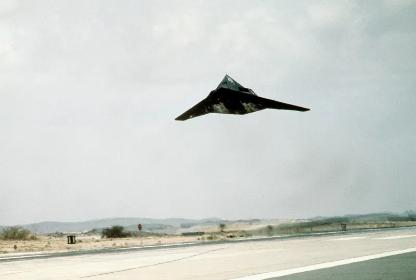E7: (174, 73, 310, 120)
